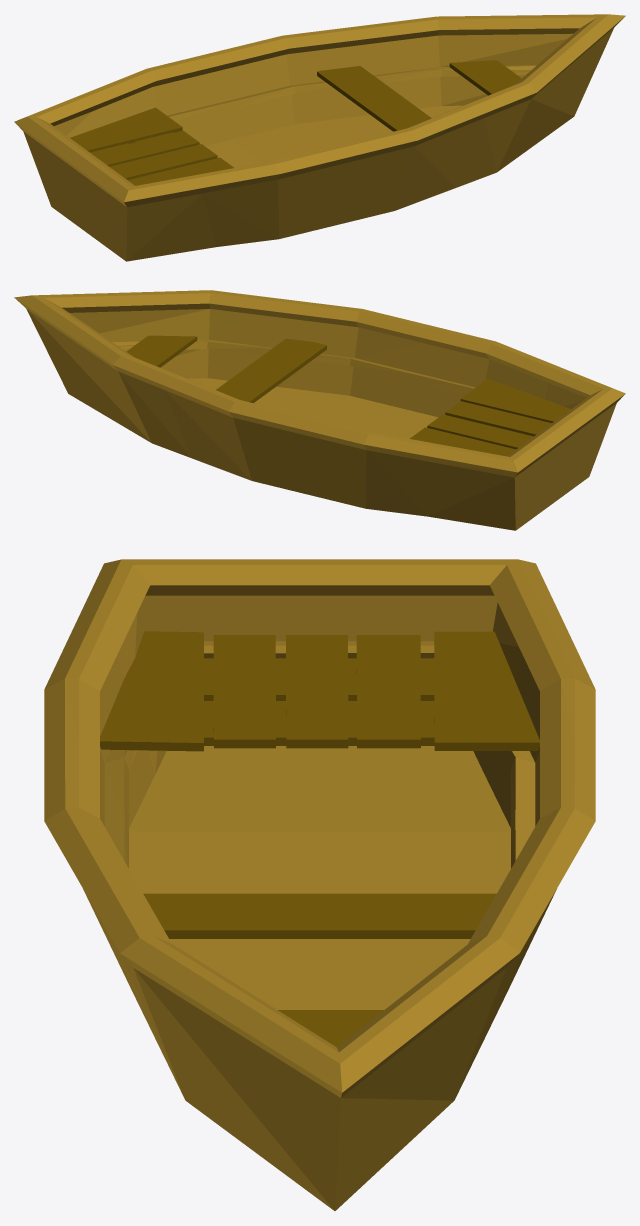
The model's file is Boat.fbx.
3 views of the same model, one above another, from view 1: azimuth 30°, elevation 25°; view 2: azimuth 150°, elevation 25°; view 3: azimuth 270°, elevation 25° (orthographic). The views are drawn at different scales.
Parts seen in each view (by area): view 1: polySurface7, polySurface8; view 2: polySurface7, polySurface8; view 3: polySurface7, polySurface8.
Boxes of the visible parts, <box> form: polySurface7: <box>14,14,625,261</box>; polySurface8: <box>70,60,521,185</box>; polySurface7: <box>14,290,625,530</box>; polySurface8: <box>126,335,570,456</box>; polySurface7: <box>44,559,595,1210</box>; polySurface8: <box>100,631,539,1047</box>.
Bounding box in the file's own units: 367 × 57.72 × 159.
